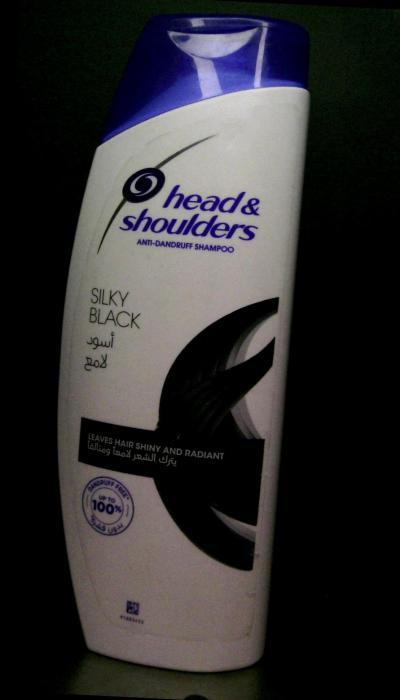tear_marg: (236, 534, 268, 613)
